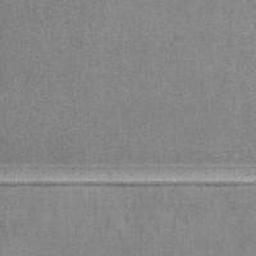Welding line: (0, 181, 256, 187)
